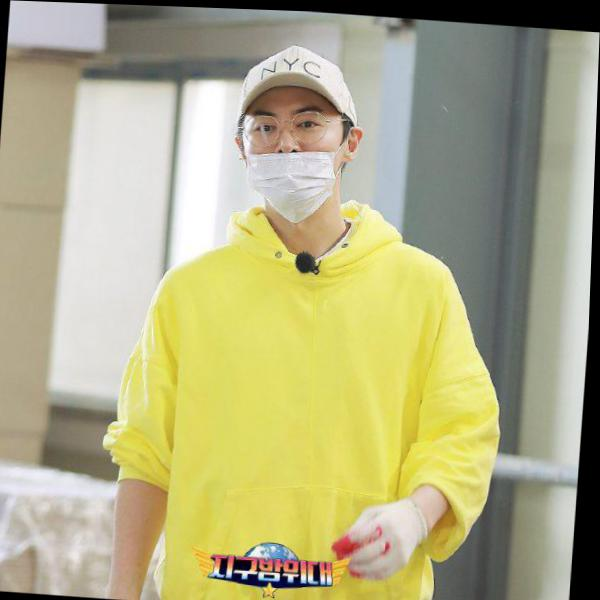WRONG: (238, 96, 348, 219)
